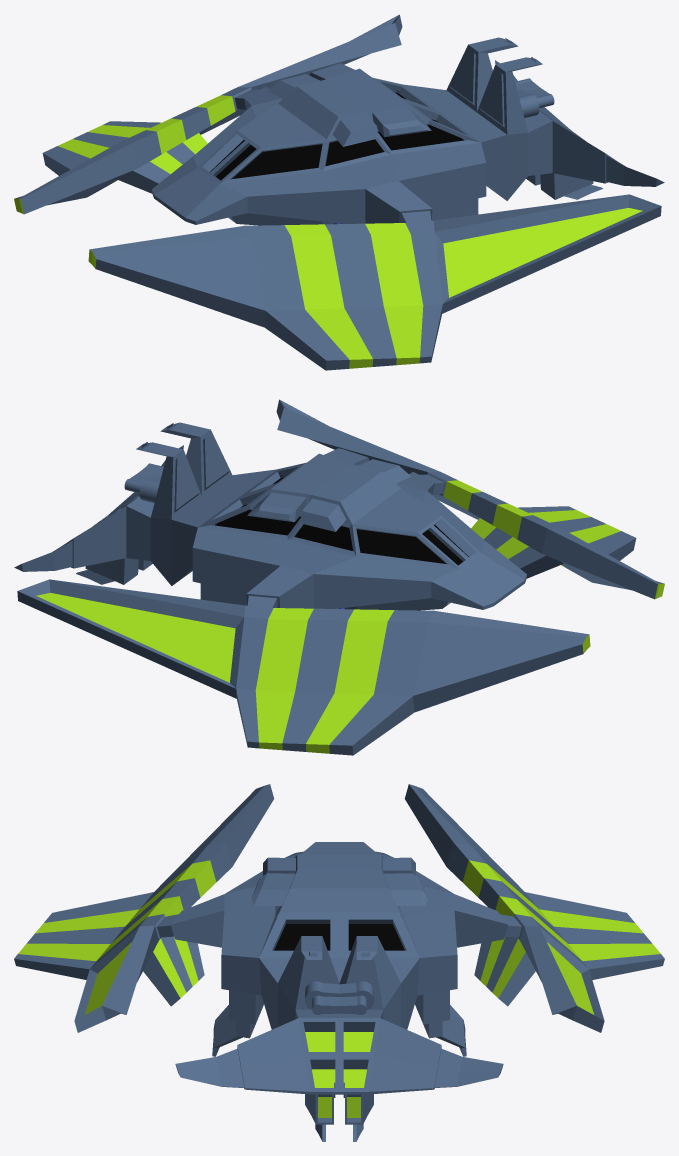
File: spaceship.fbx
3 views of the same model, one above another, from view 1: azimuth 30°, elevation 25°; view 2: azimuth 150°, elevation 25°; view 3: azimuth 270°, elevation 25° (orthographic).
Parts seen in each view (by area): view 1: spaceship; view 2: spaceship; view 3: spaceship.
Boxes of the visible parts, <box> form: spaceship: <box>14,14,664,370</box>; spaceship: <box>14,399,664,755</box>; spaceship: <box>14,784,664,1141</box>.
Size of the model in its own units: 1573 by 463 by 1622.
